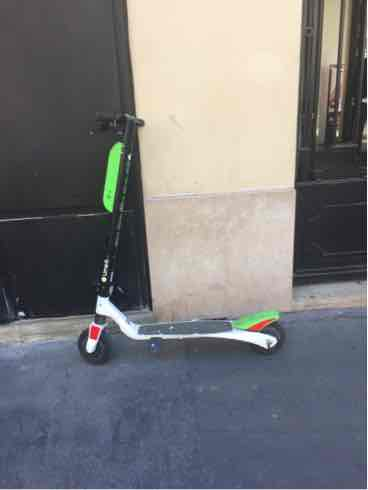scooter: (65, 109, 289, 371)
